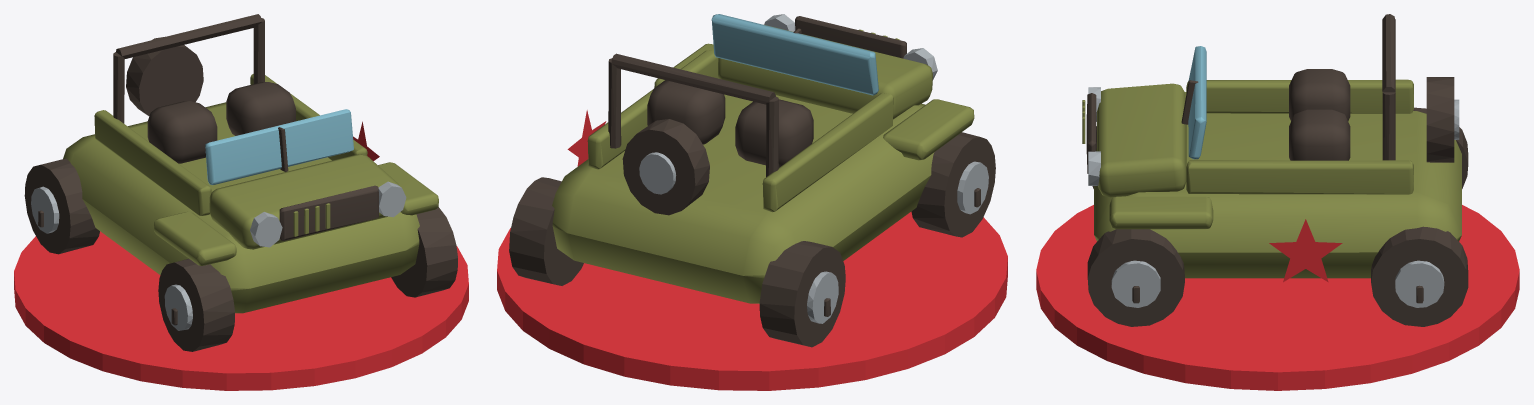
Rendered from soviet_union_militia_lod0.glb.
3 renders of one model, left to right at view 1: azimuth 30°, elevation 25°; view 2: azimuth 150°, elevation 25°; view 3: azimuth 270°, elevation 25°, orthographic. The views are drawn at different scales.
Visible parts, largest first — view 1: body_hull, base_pedestal; view 2: body_hull, base_pedestal; view 3: body_hull, base_pedestal.
Part boxes in pixels (x1,y1,x2,y2): body_hull: (24,14,457,351); base_pedestal: (14,231,468,390); body_hull: (509,14,995,347); base_pedestal: (497,211,1007,390); body_hull: (1082,14,1468,326); base_pedestal: (1036,205,1519,390).
Bounding box in the file's own units: 0.78 × 0.4245 × 0.78.
